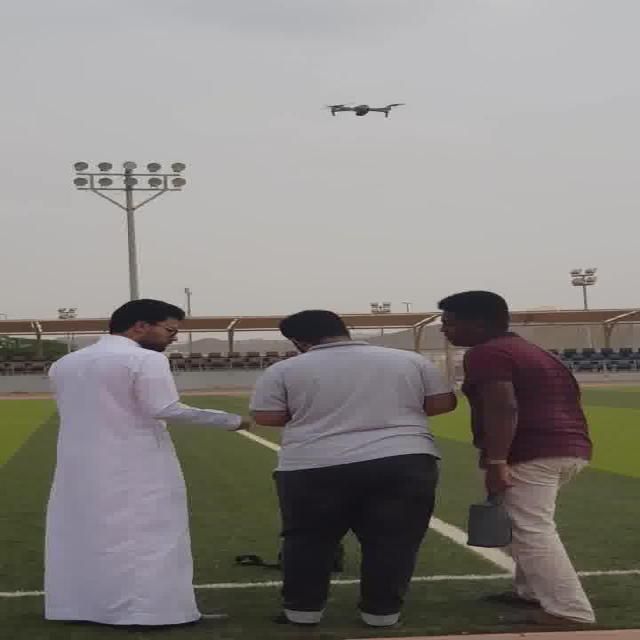drone: (316, 96, 404, 123)
